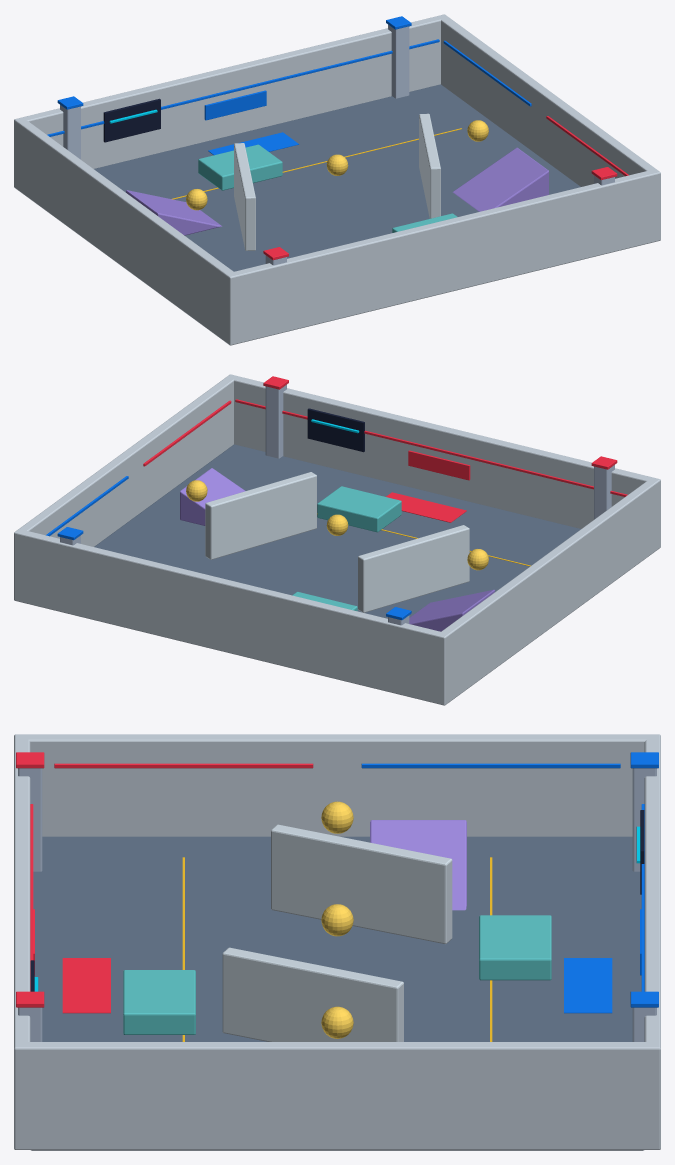
Rendered from Experimento.glb.
The picture shows the model from 3 angles, top to bottom: view 1: azimuth 30°, elevation 25°; view 2: azimuth 150°, elevation 25°; view 3: azimuth 270°, elevation 25°; orthographic projection. The views are drawn at different scales.
Visible parts, largest first — view 1: Experimento_PB_ccd8e4, Experimento_PB_64768c, Experimento_PB_9c87df, Experimento_PB_087bff, Experimento_PB_d3e1ec, Experimento_PB_5dc8cb, Experimento_PB_b5c6df, Experimento_PB_18213d, Experimento_PB_ffd75b, Experimento_PB_ff304b; view 2: Experimento_PB_ccd8e4, Experimento_PB_64768c, Experimento_PB_d3e1ec, Experimento_PB_ff304b, Experimento_PB_9c87df, Experimento_PB_5dc8cb, Experimento_PB_b5c6df, Experimento_PB_18213d, Experimento_PB_ffd75b, Experimento_PB_087bff; view 3: Experimento_PB_ccd8e4, Experimento_PB_64768c, Experimento_PB_d3e1ec, Experimento_PB_5dc8cb, Experimento_PB_ff304b, Experimento_PB_087bff, Experimento_PB_9c87df, Experimento_PB_b5c6df, Experimento_PB_ffd75b, Experimento_PB_ffc928.
Part boxes in pixels (x1,y1,x2,y2): Experimento_PB_ccd8e4: [14, 14, 660, 345]; Experimento_PB_64768c: [94, 84, 580, 271]; Experimento_PB_9c87df: [126, 147, 548, 235]; Experimento_PB_087bff: [47, 16, 531, 155]; Experimento_PB_d3e1ec: [234, 113, 440, 250]; Experimento_PB_5dc8cb: [198, 144, 457, 232]; Experimento_PB_b5c6df: [60, 24, 614, 265]; Experimento_PB_18213d: [103, 98, 160, 142]; Experimento_PB_ffd75b: [186, 120, 488, 210]; Experimento_PB_ff304b: [263, 116, 628, 260]; Experimento_PB_ccd8e4: [14, 374, 660, 705]; Experimento_PB_64768c: [94, 444, 580, 618]; Experimento_PB_d3e1ec: [205, 472, 469, 612]; Experimento_PB_ff304b: [143, 376, 627, 522]; Experimento_PB_9c87df: [180, 468, 494, 631]; Experimento_PB_5dc8cb: [292, 486, 401, 611]; Experimento_PB_b5c6df: [60, 384, 614, 625]; Experimento_PB_18213d: [307, 408, 364, 452]; Experimento_PB_ffd75b: [186, 480, 488, 570]; Experimento_PB_087bff: [46, 476, 411, 620]; Experimento_PB_ccd8e4: [14, 734, 660, 1149]; Experimento_PB_64768c: [31, 836, 643, 1150]; Experimento_PB_d3e1ec: [222, 824, 452, 1041]; Experimento_PB_5dc8cb: [123, 915, 551, 1034]; Experimento_PB_ff304b: [16, 752, 313, 1013]; Experimento_PB_087bff: [361, 752, 658, 1013]; Experimento_PB_9c87df: [370, 820, 466, 910]; Experimento_PB_b5c6df: [18, 768, 656, 1041]; Experimento_PB_ffd75b: [321, 801, 353, 1038]; Experimento_PB_ffc928: [182, 857, 492, 1041].
Bounding box in the file's own units: 25.76 × 4.7 × 22.4.
